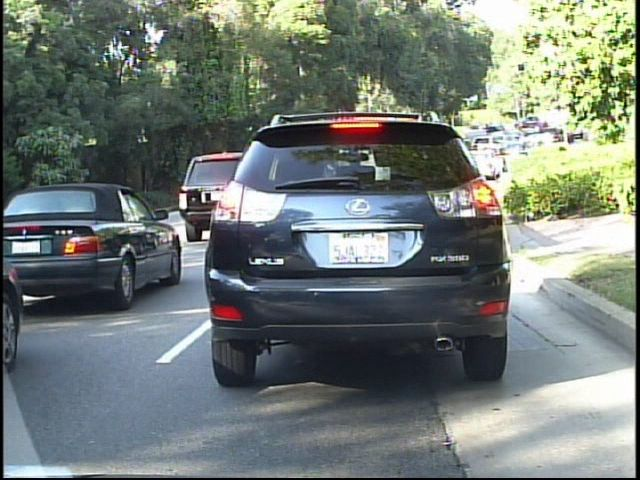car: (197, 108, 509, 390), (2, 180, 177, 324), (169, 148, 241, 237)
